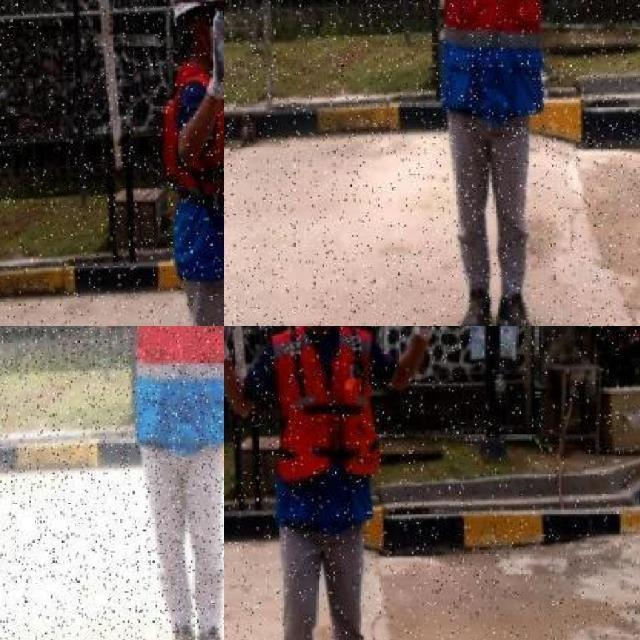apron: (209, 11, 224, 102), (405, 326, 441, 342)
